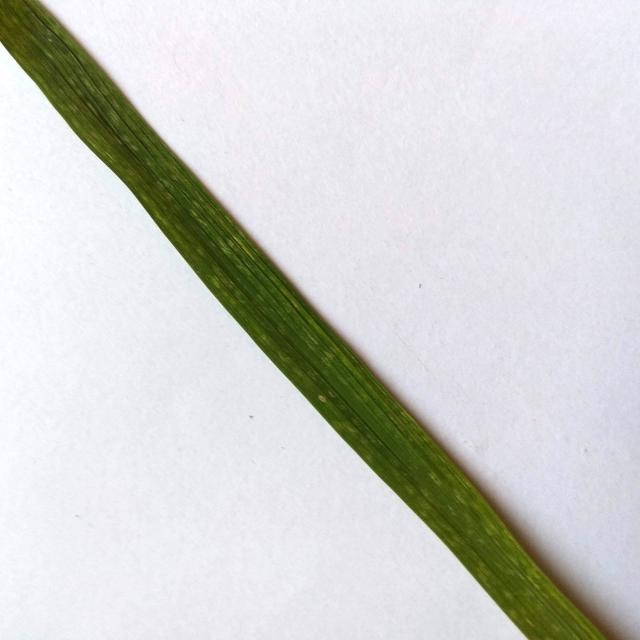Rice_Healthy: (0, 0, 606, 640)
